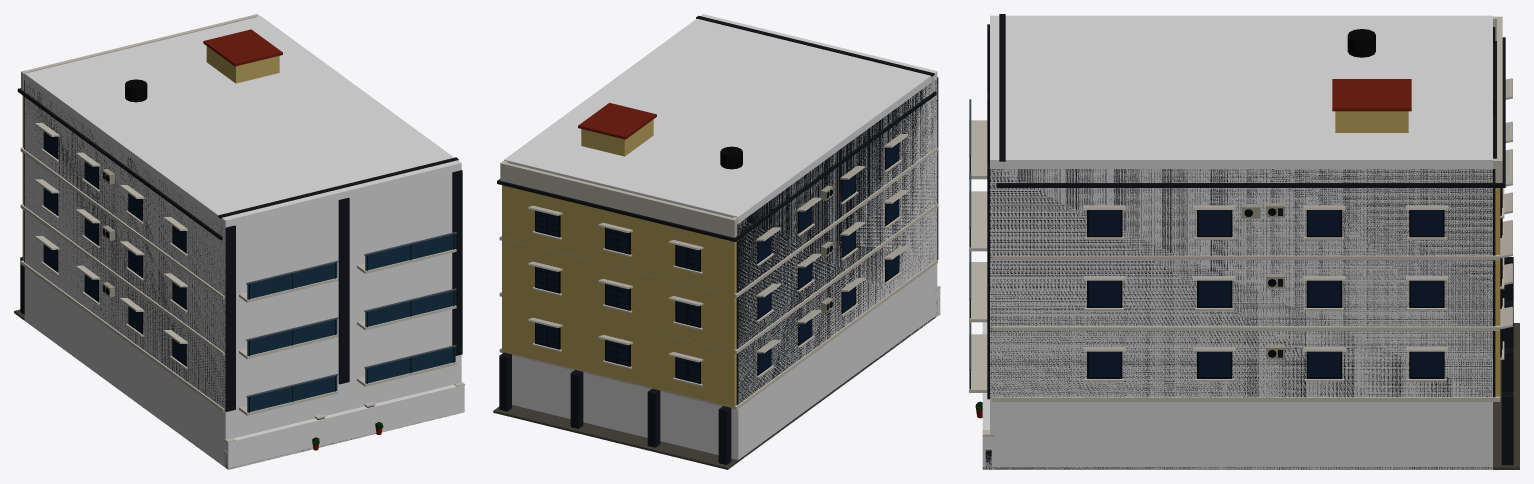
File: CHN_052_builder_floor.glb
3 renders of one model, left to right at view 1: azimuth 30°, elevation 25°; view 2: azimuth 150°, elevation 25°; view 3: azimuth 270°, elevation 25°, orthographic. The views are drawn at different scales.
Visible parts, largest first — view 1: COL_Main, LOD0, COL_Compound; view 2: LOD0, COL_Main; view 3: COL_Main, LOD0, COL_Compound.
Boxes of the visible parts, left/top/right/bottom form: COL_Main: left=24, top=16, right=461, bottom=467; LOD0: left=14, top=14, right=464, bottom=468; COL_Compound: left=223, top=384, right=464, bottom=469; LOD0: left=493, top=15, right=940, bottom=469; COL_Main: left=504, top=14, right=937, bottom=459; COL_Main: left=990, top=15, right=1492, bottom=469; LOD0: left=969, top=14, right=1519, bottom=469; COL_Compound: left=982, top=322, right=994, bottom=469.
Size of what is drawn, in the model's own units: 14.97 by 15.18 by 22.55.
